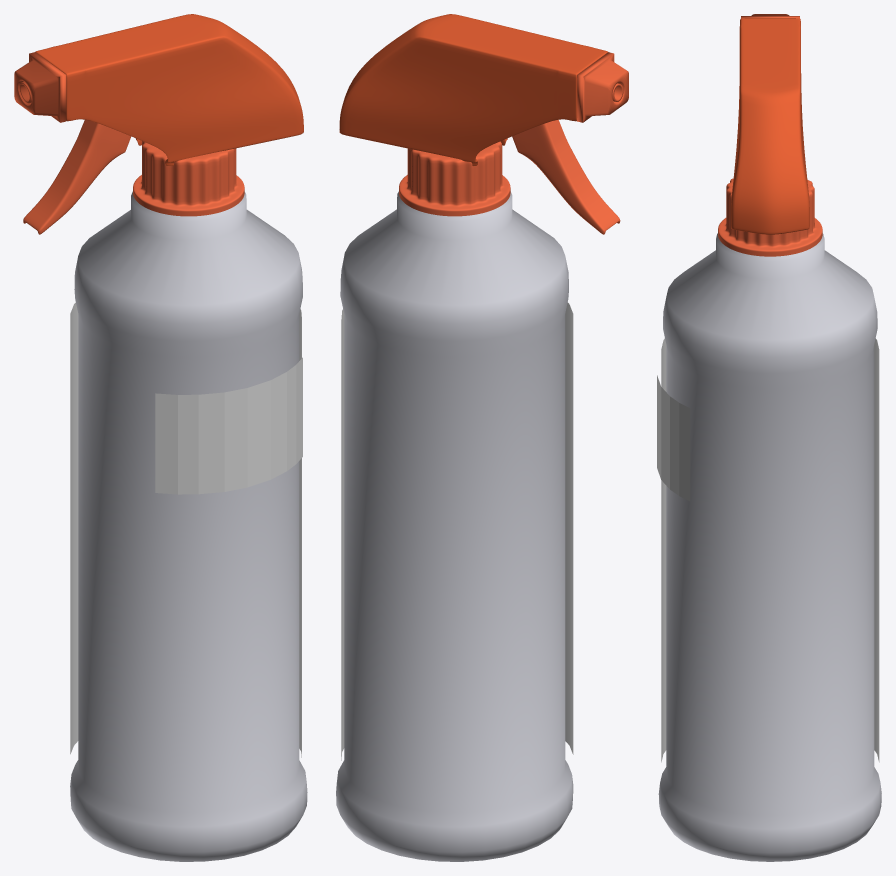
File: spray_bottle_v1.glb
3 views of the same model, side by side, from view 1: azimuth 30°, elevation 25°; view 2: azimuth 150°, elevation 25°; view 3: azimuth 270°, elevation 25° (orthographic). The views are drawn at different scales.
Visible parts, largest first — view 1: bottle, spray_nogal_back, logo, cap, label, spray_handle, spray_nogel; view 2: bottle, spray_nogal_back, cap, label, spray_handle, spray_nogel; view 3: bottle, spray_nogal_back, label, logo, cap.
Part boxes in pixels (left/top/right/bottom): bottle: left=70, top=191, right=307, bottom=861; spray_nogal_back: left=35, top=14, right=303, bottom=165; logo: left=155, top=357, right=302, bottom=494; cap: left=133, top=141, right=244, bottom=216; label: left=70, top=302, right=301, bottom=757; spray_handle: left=23, top=119, right=131, bottom=234; spray_nogel: left=14, top=52, right=66, bottom=122; bottle: left=336, top=191, right=573, bottom=861; spray_nogal_back: left=339, top=14, right=607, bottom=166; cap: left=399, top=141, right=510, bottom=216; label: left=341, top=302, right=573, bottom=760; spray_handle: left=512, top=119, right=620, bottom=234; spray_nogel: left=577, top=52, right=628, bottom=122; bottle: left=658, top=233, right=881, bottom=861; spray_nogal_back: left=731, top=18, right=809, bottom=234; label: left=661, top=338, right=879, bottom=762; logo: left=657, top=375, right=690, bottom=501; cap: left=718, top=178, right=822, bottom=256.
Size of the model in its own units: 1.75 by 4.9 by 1.34.
